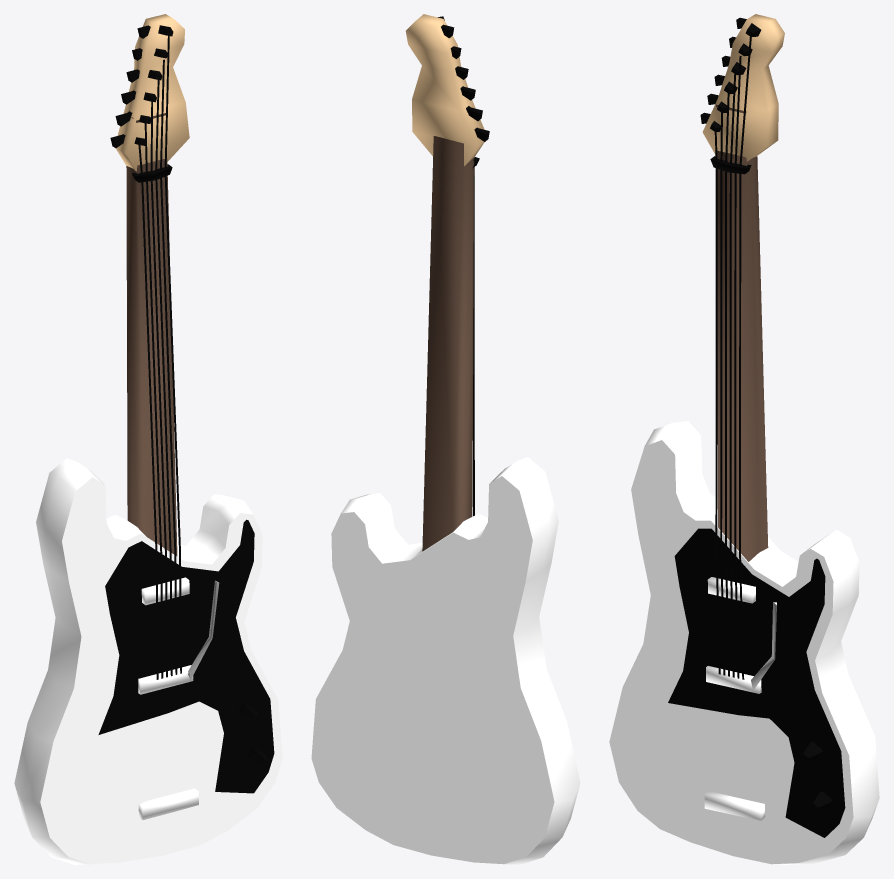
Rendered from GuitarElectricWhite.glb.
The picture shows the model from 3 angles, left to right: view 1: azimuth 30°, elevation 25°; view 2: azimuth 150°, elevation 25°; view 3: azimuth 330°, elevation 25°; orthographic projection.
Visible parts, largest first — view 1: GuitarElectricWhite; view 2: GuitarElectricWhite; view 3: GuitarElectricWhite.
Part boxes in pixels (box(x1,y1,x2,y2)): GuitarElectricWhite: box(14, 14, 282, 864); GuitarElectricWhite: box(311, 14, 580, 864); GuitarElectricWhite: box(609, 14, 879, 864).
Size of the model in its own units: 0.4159 by 1.31 by 0.1052.
1 material, 1 textured.
